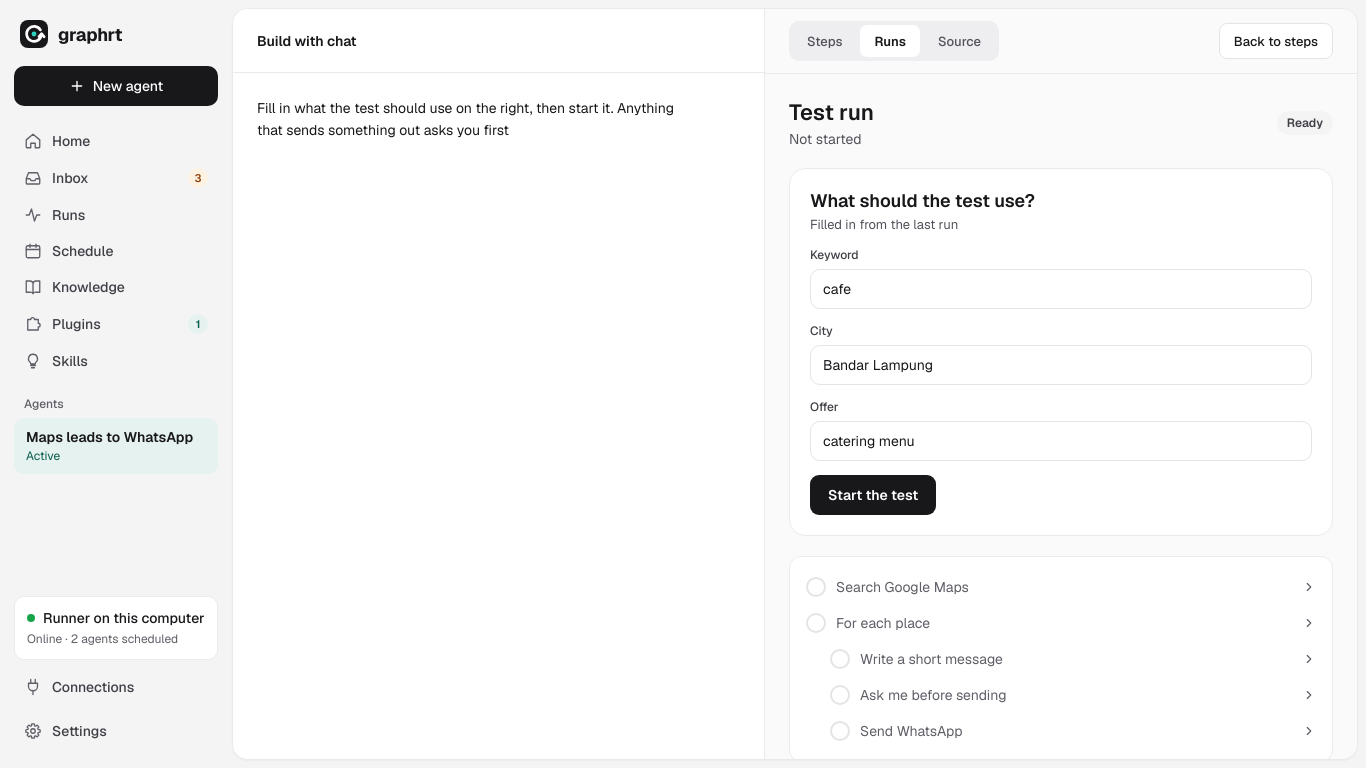
Test: TestRunPage › fills in steps from the flow summary and live run events, without bookkeeping nodes
Click the button "Start the test": (873,495) [810,475,936,515]
Wait 2716 ms
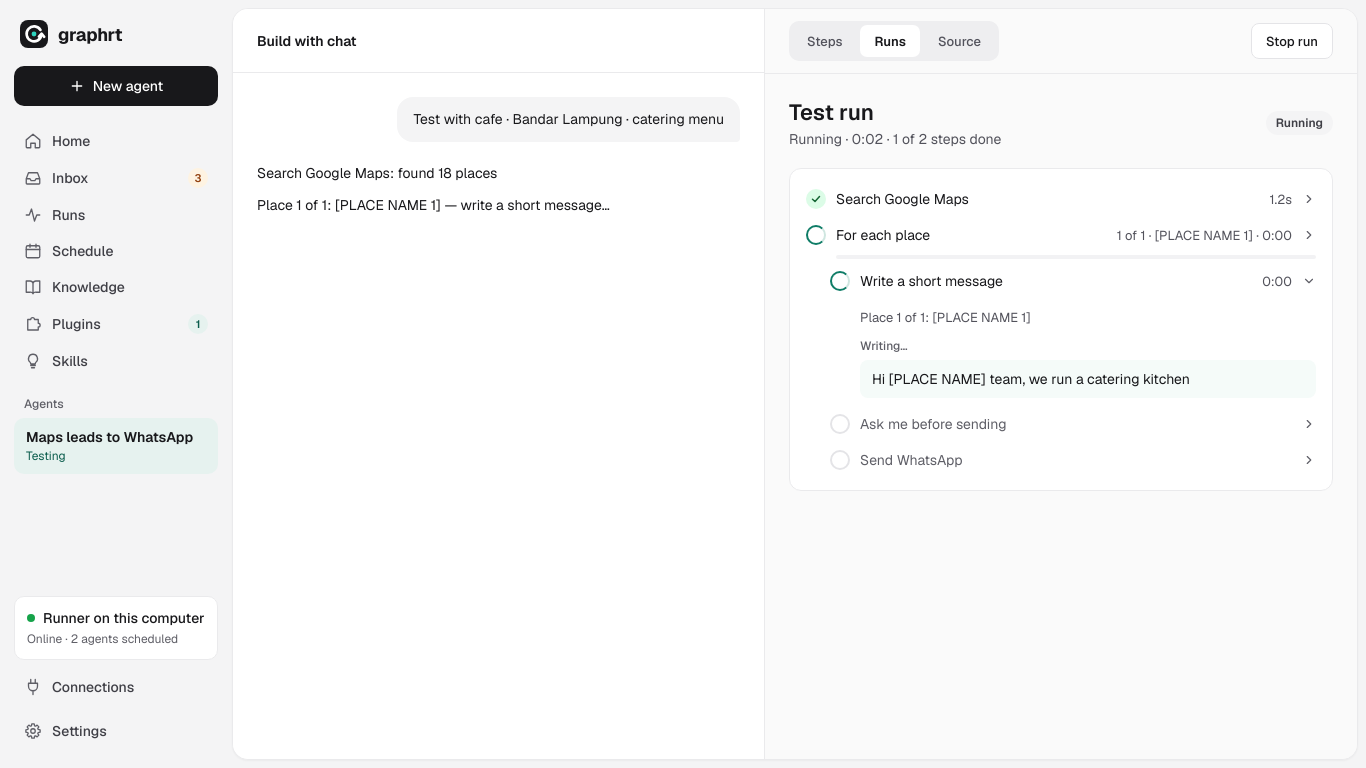
Check: the text "1.2s" is shown, box [1270,190,1292,208]
Check: the text "1 of 1 · [PLACE NAME 1] · 0:00" is shown, box [1117,226,1292,244]
